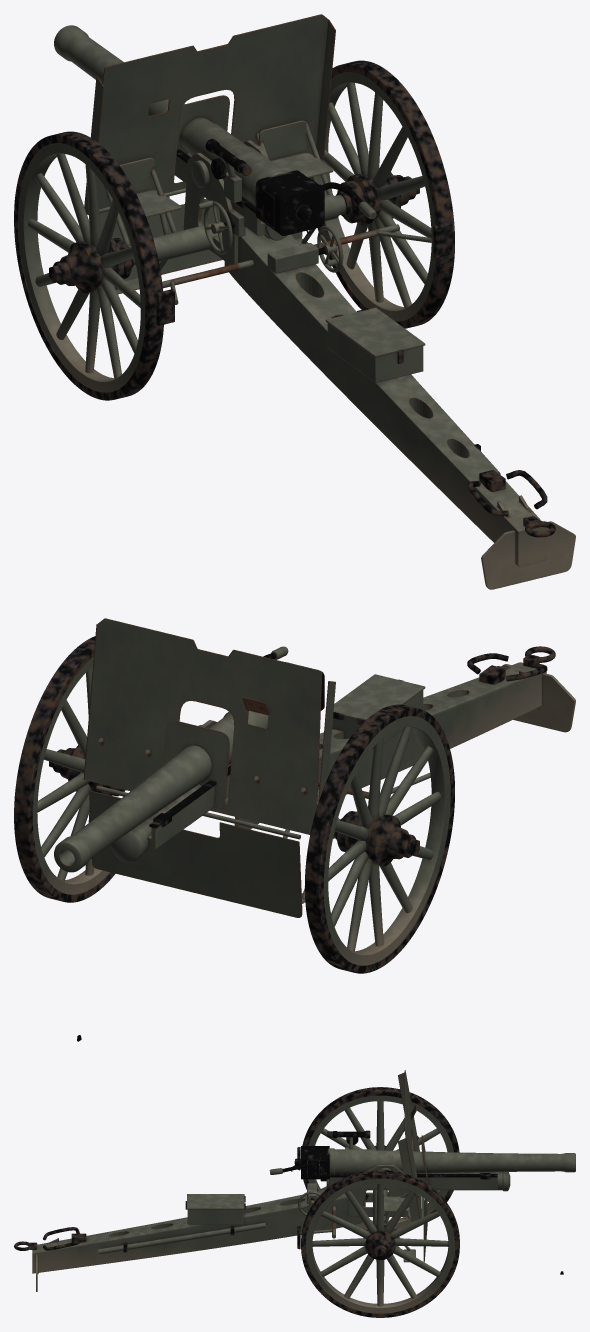
File: krupp75.glb
3 renders of one model, top to bottom at view 1: azimuth 30°, elevation 25°; view 2: azimuth 150°, elevation 25°; view 3: azimuth 270°, elevation 25°, orthographic. The views are drawn at different scales.
Parts seen in each view (by area): view 1: Govde, Namlu; view 2: Govde, Namlu; view 3: Govde, Namlu.
Boxes of the visible parts, x1,y1,x2,y2 form: Govde: [14, 14, 575, 589]; Namlu: [54, 25, 376, 235]; Govde: [14, 618, 575, 973]; Namlu: [54, 646, 324, 1041]; Govde: [14, 1070, 510, 1317]; Namlu: [269, 1146, 575, 1274].
Bounding box in the file's own units: 2.01 × 1.63 × 4.6.
1 material, 1 textured.
